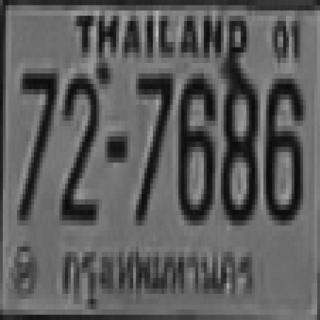N02: (60, 71, 96, 218)
N06: (263, 74, 300, 220), (176, 74, 212, 220)
N07: (17, 71, 57, 218), (135, 68, 171, 220)
N08: (221, 68, 255, 220)
P04: (60, 244, 257, 305)
